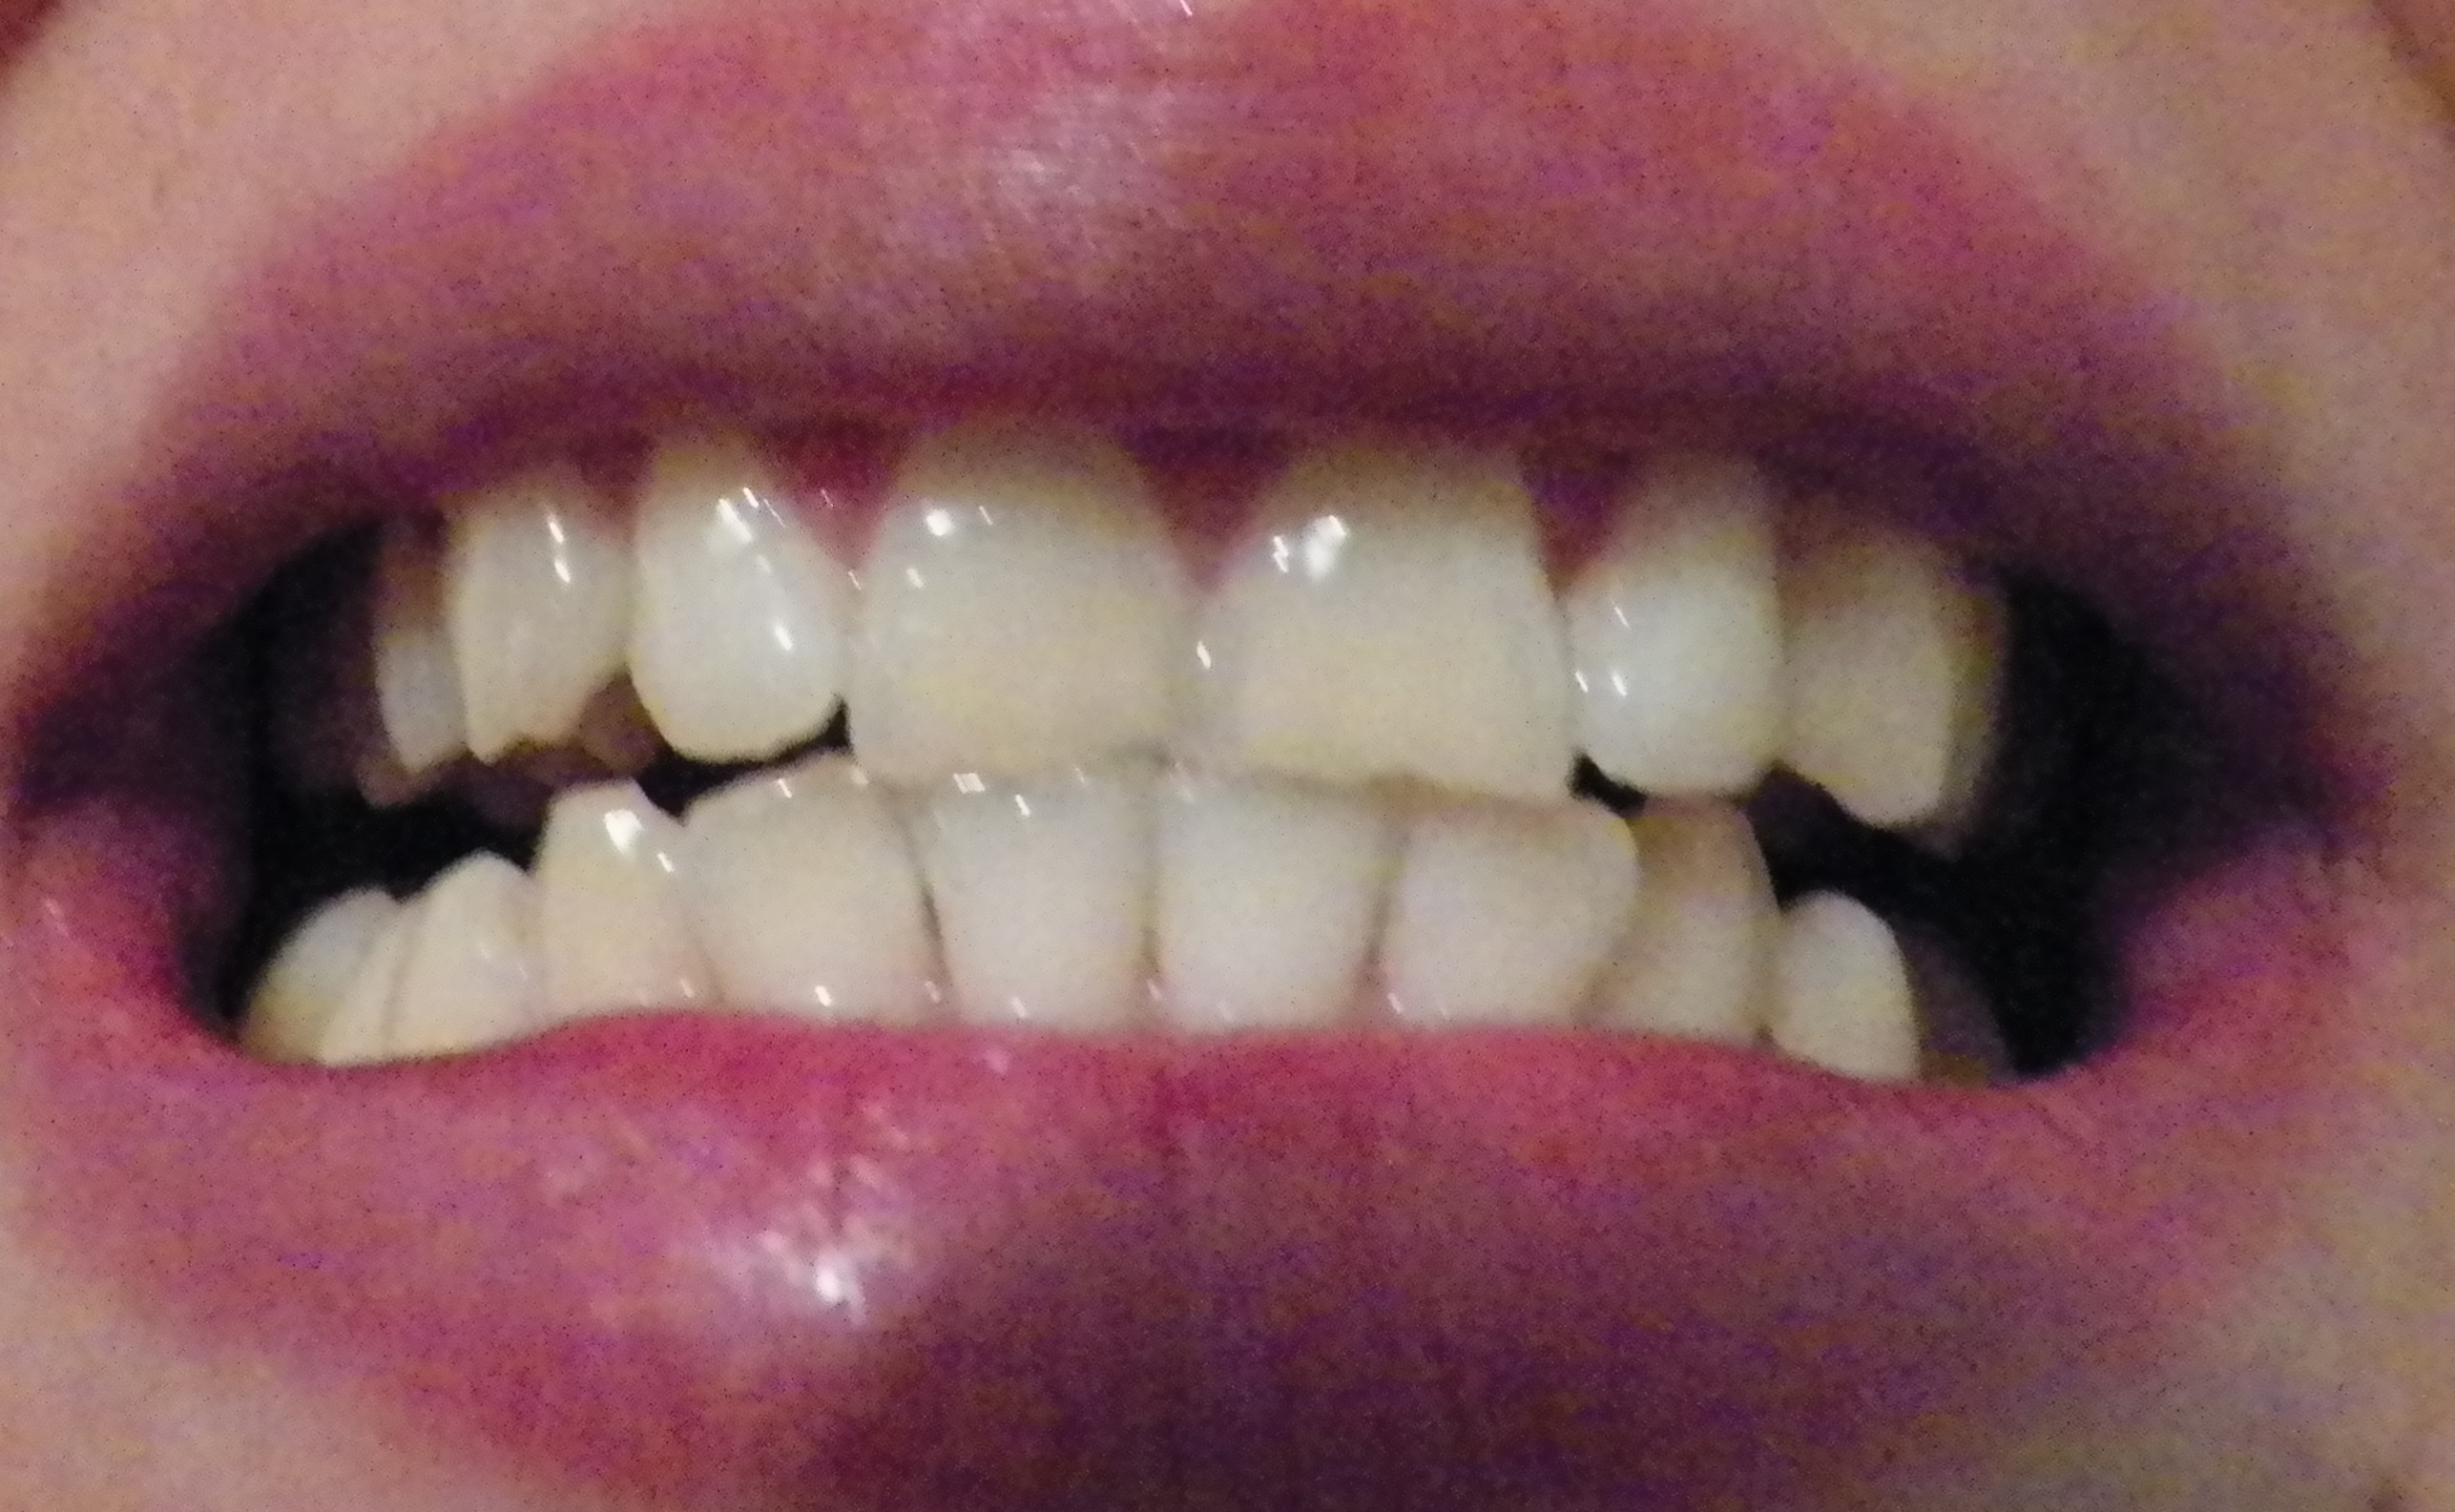boca: (277, 426, 2194, 1051)
